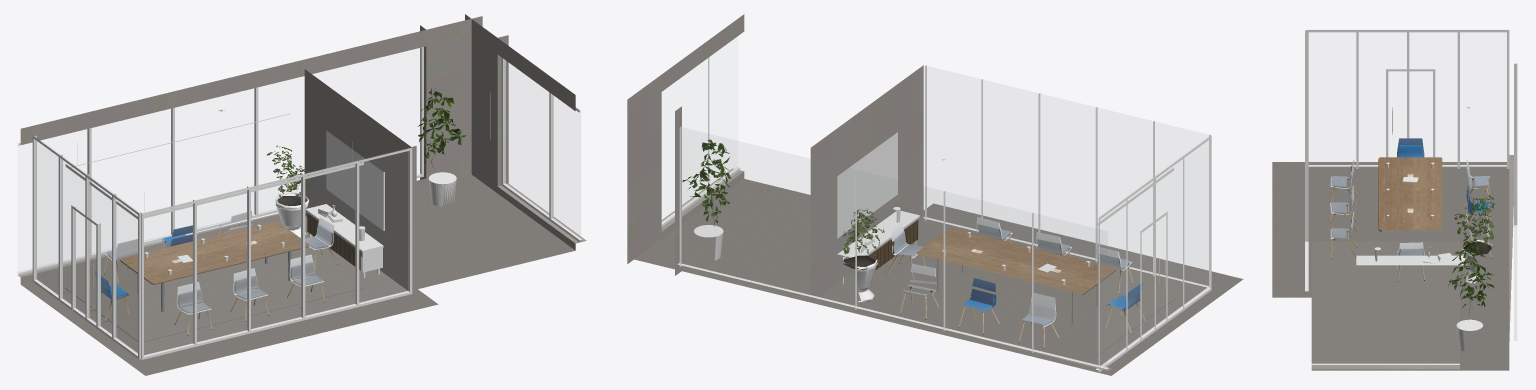
Rendered from z-open_n-lite.light.0c412169.glb.
The picture shows the model from 3 angles, left to right: view 1: azimuth 30°, elevation 25°; view 2: azimuth 150°, elevation 25°; view 3: azimuth 270°, elevation 25°; orthographic projection. The views are drawn at different scales.
Visible parts, largest first — view 1: open_n_plaster, open_n_carpet, open_n_satin, open_n_glass, open_n_oak, open_n_fx, open_n_gloss, open_n_veg_atlas, open_n_proxy_cab; view 2: open_n_carpet, open_n_plaster, open_n_glass, open_n_satin, open_n_oak, open_n_fx, open_n_gloss, open_n_veg_atlas, open_n_proxy_cab; view 3: open_n_carpet, open_n_satin, open_n_oak, open_n_fx, open_n_veg_atlas, open_n_plaster.
Part boxes in pixels (x1,y1,x2,y2): open_n_plaster: (17,14,586,292); open_n_carpet: (21,174,575,375); open_n_satin: (17,47,582,359); open_n_glass: (37,140,304,267); open_n_oak: (120,221,308,284); open_n_fx: (91,210,338,335); open_n_gloss: (144,130,384,274); open_n_veg_atlas: (266,88,466,205); open_n_proxy_cab: (307,213,360,270); open_n_carpet: (634,179,1243,375); open_n_plaster: (627,14,1110,370); open_n_glass: (682,127,1208,365); open_n_satin: (661,57,1211,372); open_n_oak: (916,228,1115,294); open_n_fx: (886,217,1146,348); open_n_gloss: (837,132,1090,285); open_n_veg_atlas: (682,139,884,269); open_n_proxy_cab: (861,220,918,270); open_n_carpet: (1272,162,1509,370); open_n_satin: (1305,30,1517,364); open_n_oak: (1378,157,1442,231); open_n_fx: (1329,138,1491,281); open_n_veg_atlas: (1448,191,1495,315); open_n_plaster: (1311,155,1513,369).
Bounding box in the file's own units: 10.25 × 3.3 × 5.05.
11 materials, 6 textured.
